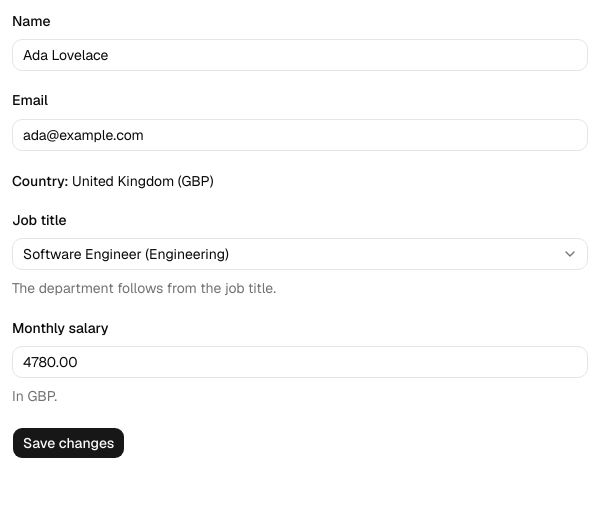
Scenario: EmployeeForm when editing an employee › confirms saved changes
What coordinates should you click on to do the following:
click the button "Save changes"
I would click on:
 (69, 443)
Its box is [12, 427, 125, 459].
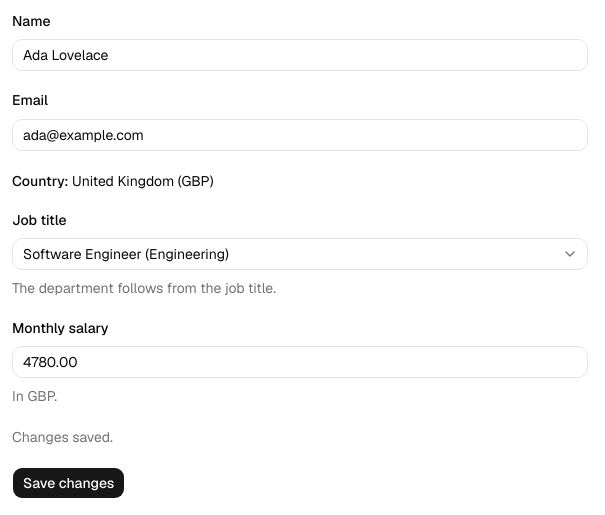
Check: the message reads "Changes saved.", box [12, 428, 113, 446]
